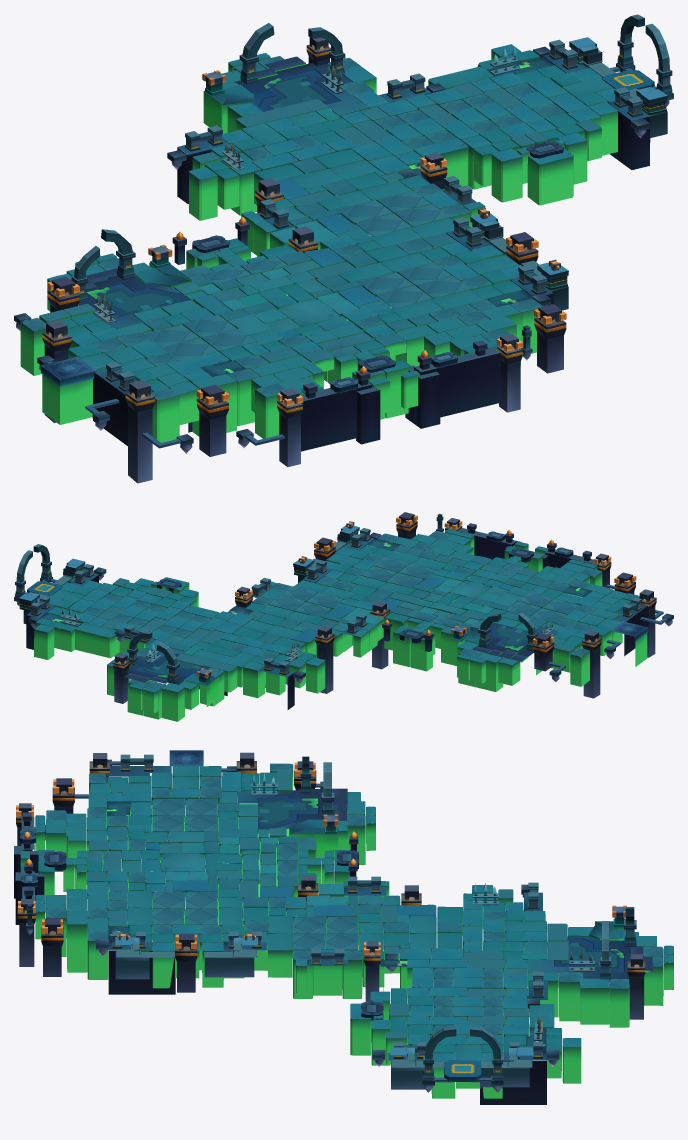
The picture shows the model from 3 angles, top to bottom: view 1: azimuth 30°, elevation 25°; view 2: azimuth 150°, elevation 25°; view 3: azimuth 270°, elevation 25°; orthographic projection. The views are drawn at different scales.
Parts seen in each view (by area): view 1: anS01, anS02; view 2: anS01, anS02; view 3: anS01, anS02.
Part boxes in pixels (box(x1,y1,x2,y2)): anS01: box(14, 14, 673, 483); anS02: box(47, 140, 566, 456); anS01: box(14, 513, 673, 721); anS02: box(156, 512, 636, 671); anS01: box(14, 750, 673, 1104); anS02: box(41, 761, 383, 1020).
Bounding box in the file's own units: 54.44 × 9.24 × 46.18.
2 materials, 2 textured.
